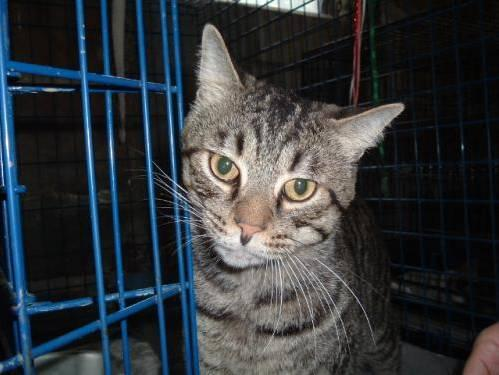cat: (181, 23, 404, 374)
